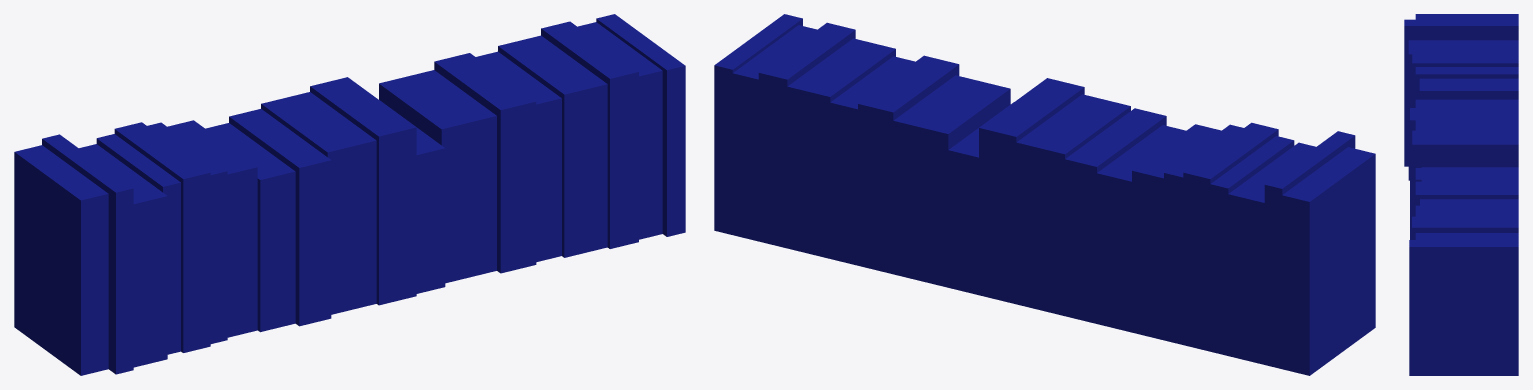
The model's file is SM_BookBlocs_02.fbx.
The picture shows the model from 3 angles, left to right: view 1: azimuth 30°, elevation 25°; view 2: azimuth 150°, elevation 25°; view 3: azimuth 270°, elevation 25°; orthographic projection. The views are drawn at different scales.
Visible parts, largest first — view 1: SM_Books_Medium; view 2: SM_Books_Medium; view 3: SM_Books_Medium.
Boxes of the visible parts, box(x1,y1,x2,y2) form: SM_Books_Medium: box(14, 14, 685, 375); SM_Books_Medium: box(714, 14, 1375, 375); SM_Books_Medium: box(1404, 14, 1518, 375).
Bounding box in the file's own units: 163 × 47.15 × 34.69.
